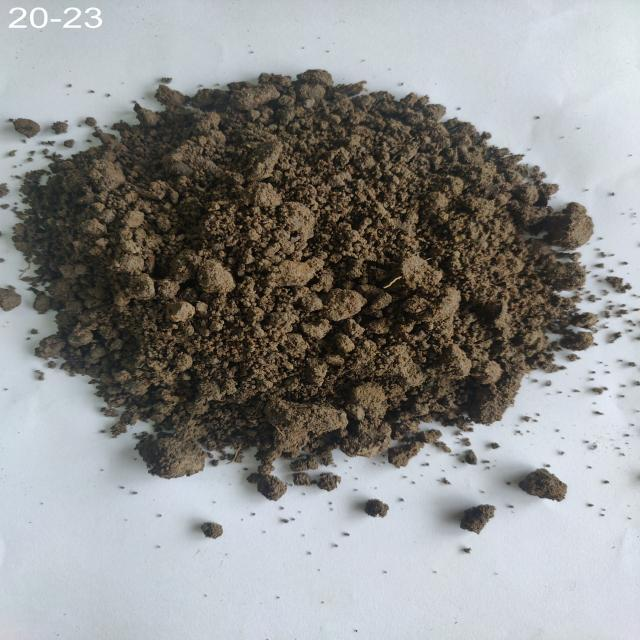soil: (120, 122, 510, 412)
